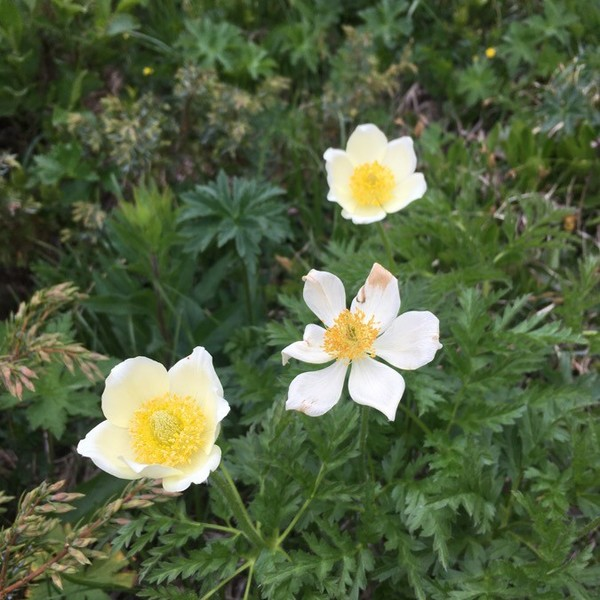obstacle: (206, 120, 484, 416), (64, 334, 307, 576)
